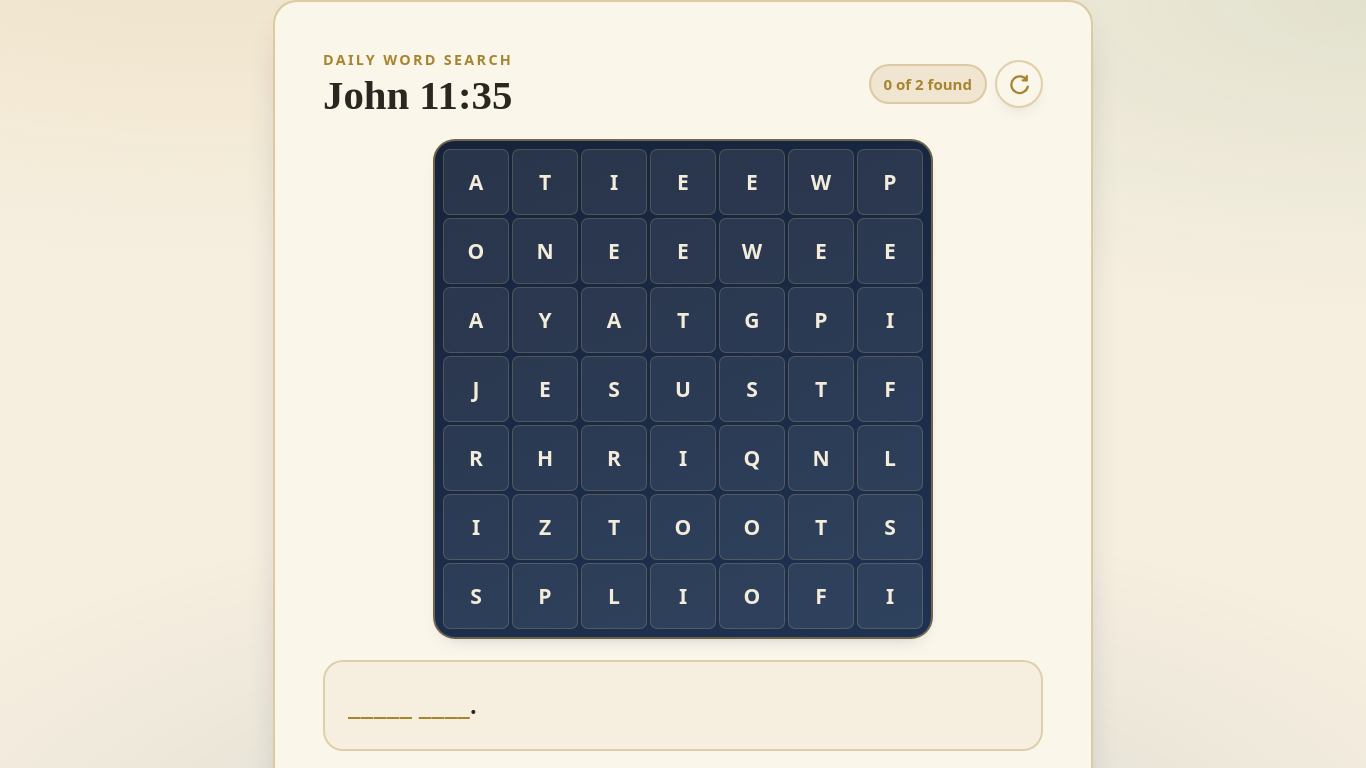
Test case: Daily Word Search › fills a verse blank when its grid path is dragged
Click the cell "J". click: (476, 389)
box: 443,356 -> 509,422
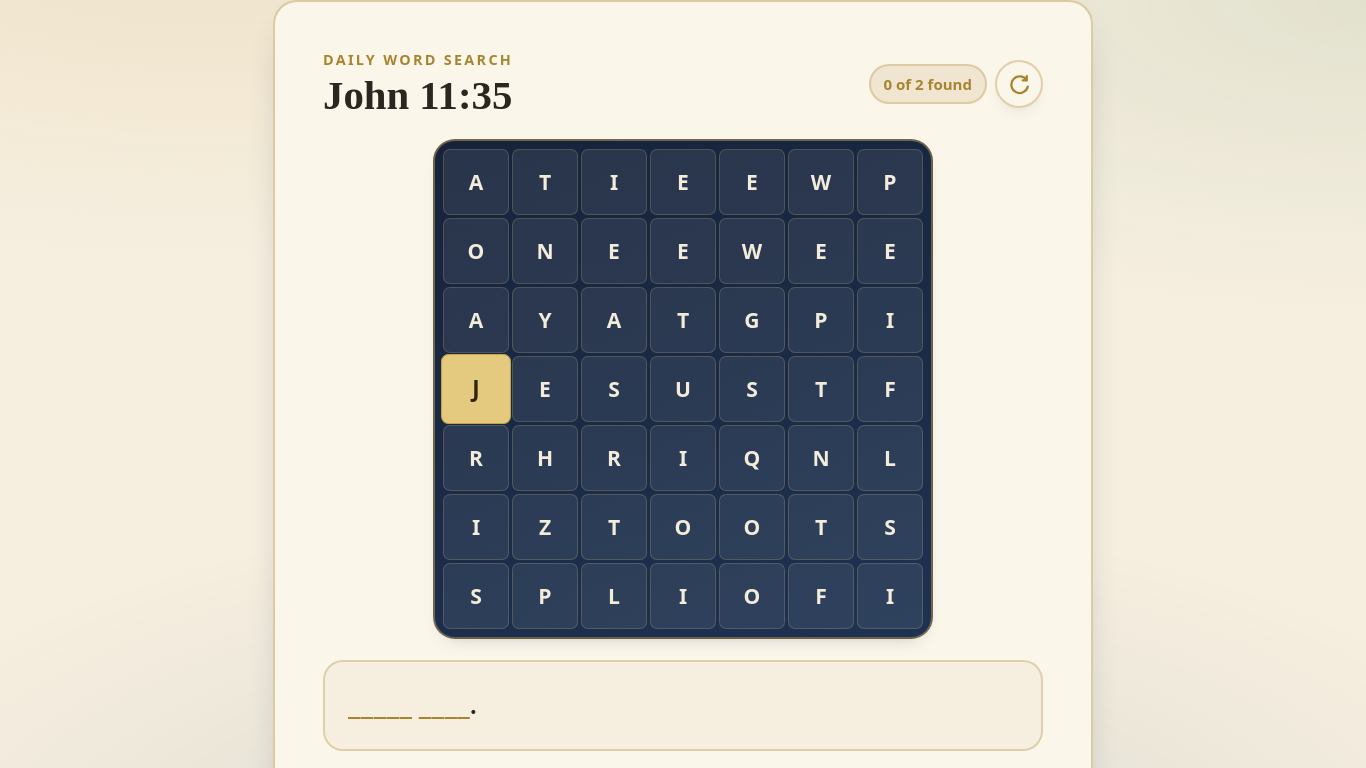
Click the 2nd cell "S". click: (752, 389)
box: 719,356 -> 785,422
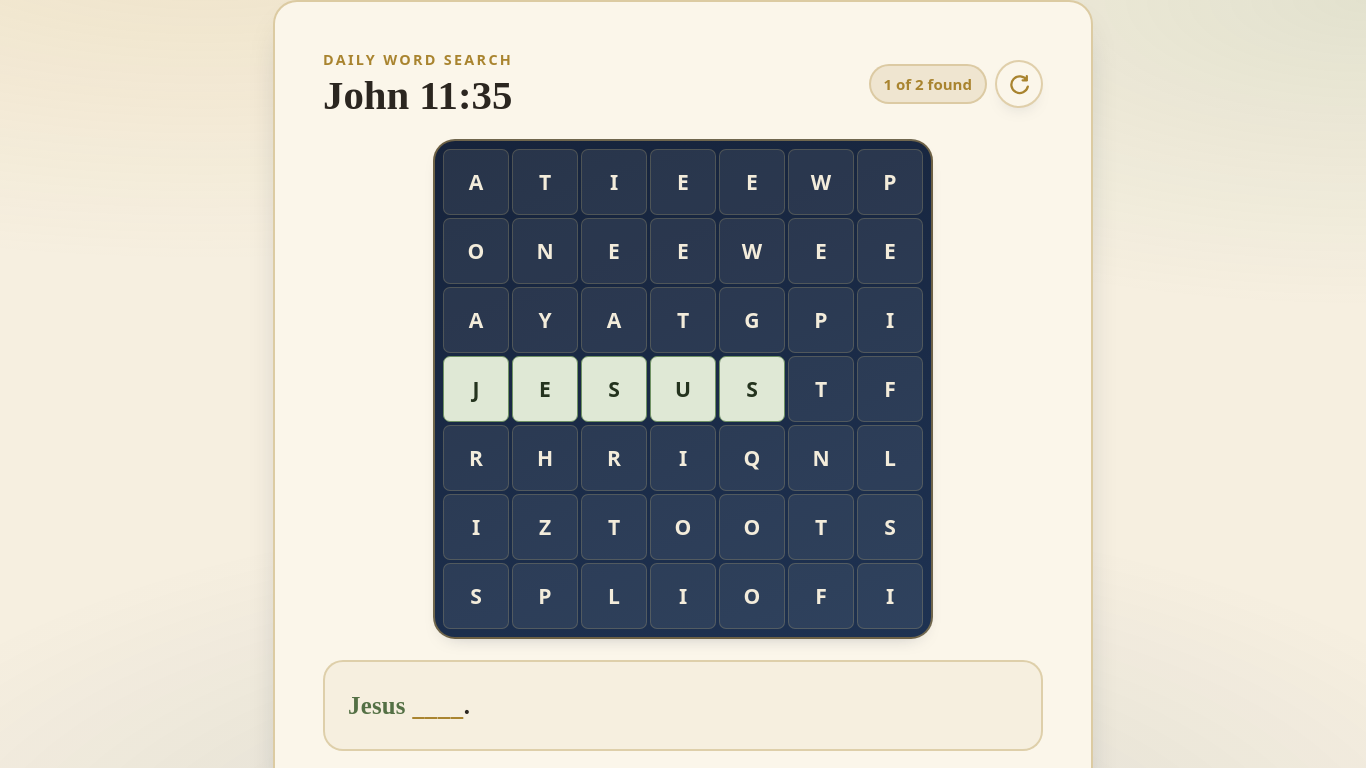
Expected: the text "1 of 2 found" is shown, 868,64 -> 987,104
Click the button named "Refresh word-search layout". click: (1019, 84)
box: 995,60 -> 1043,108
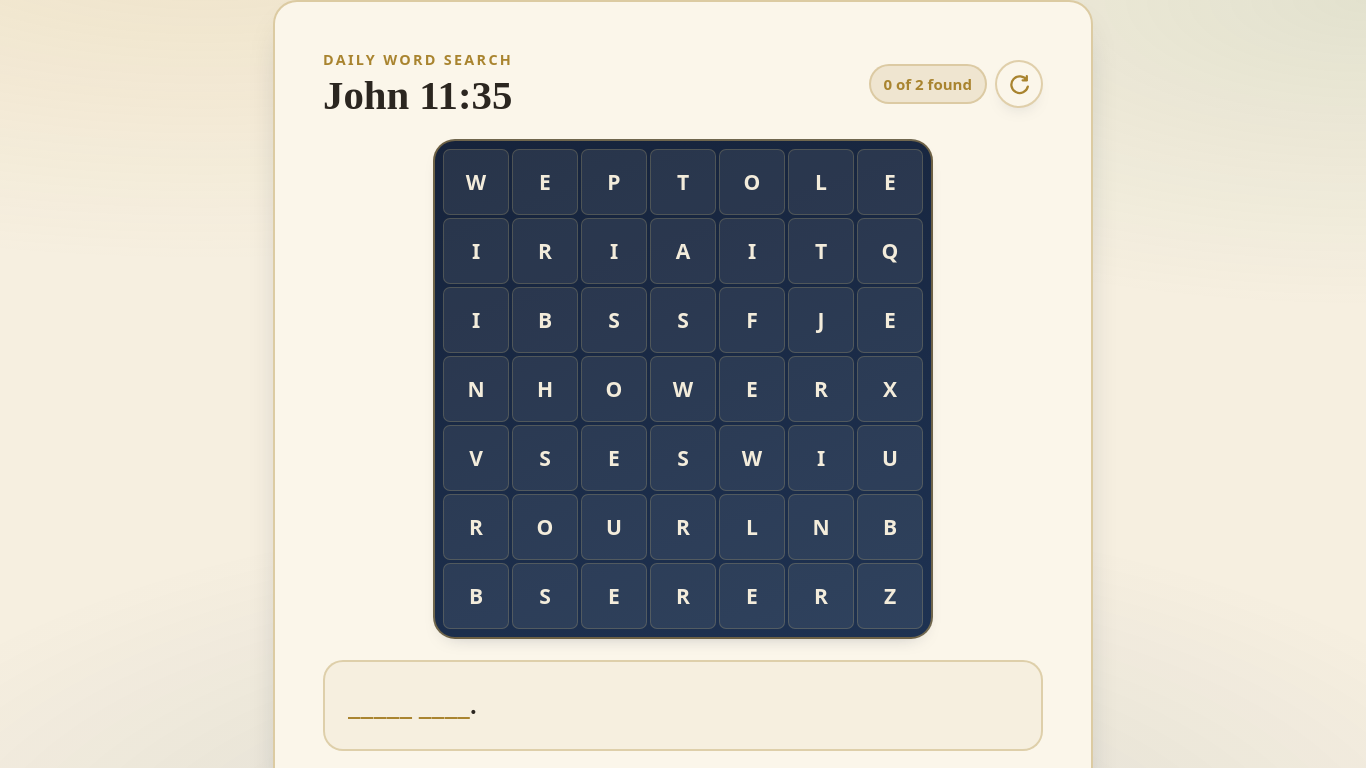
Expected: the text "0 of 2 found" is shown, 868,64 -> 987,104
